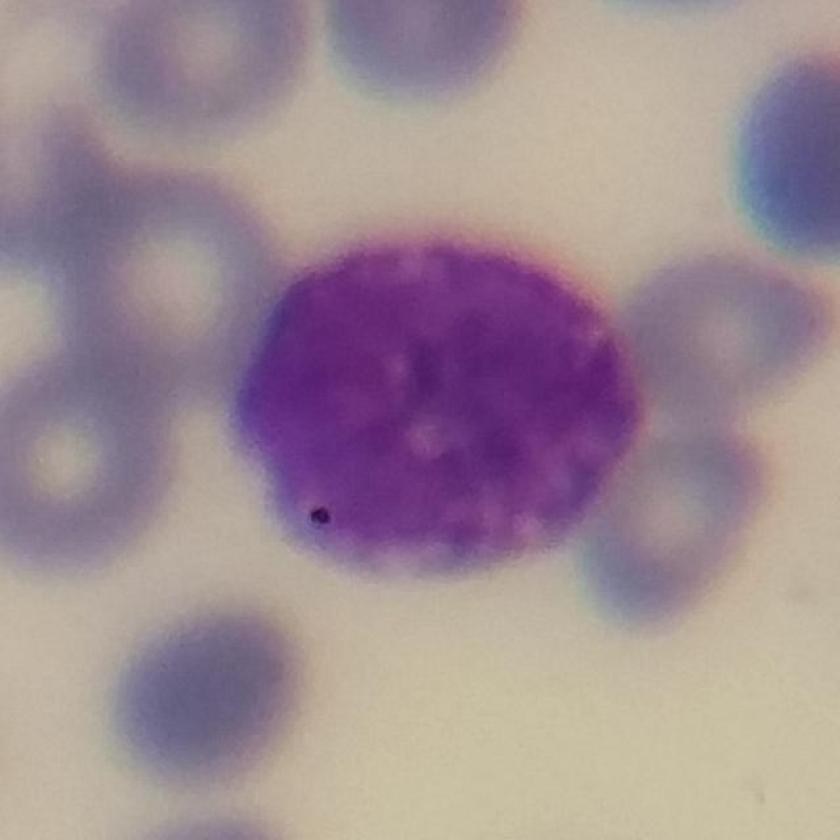basophil: (227, 231, 659, 571)
